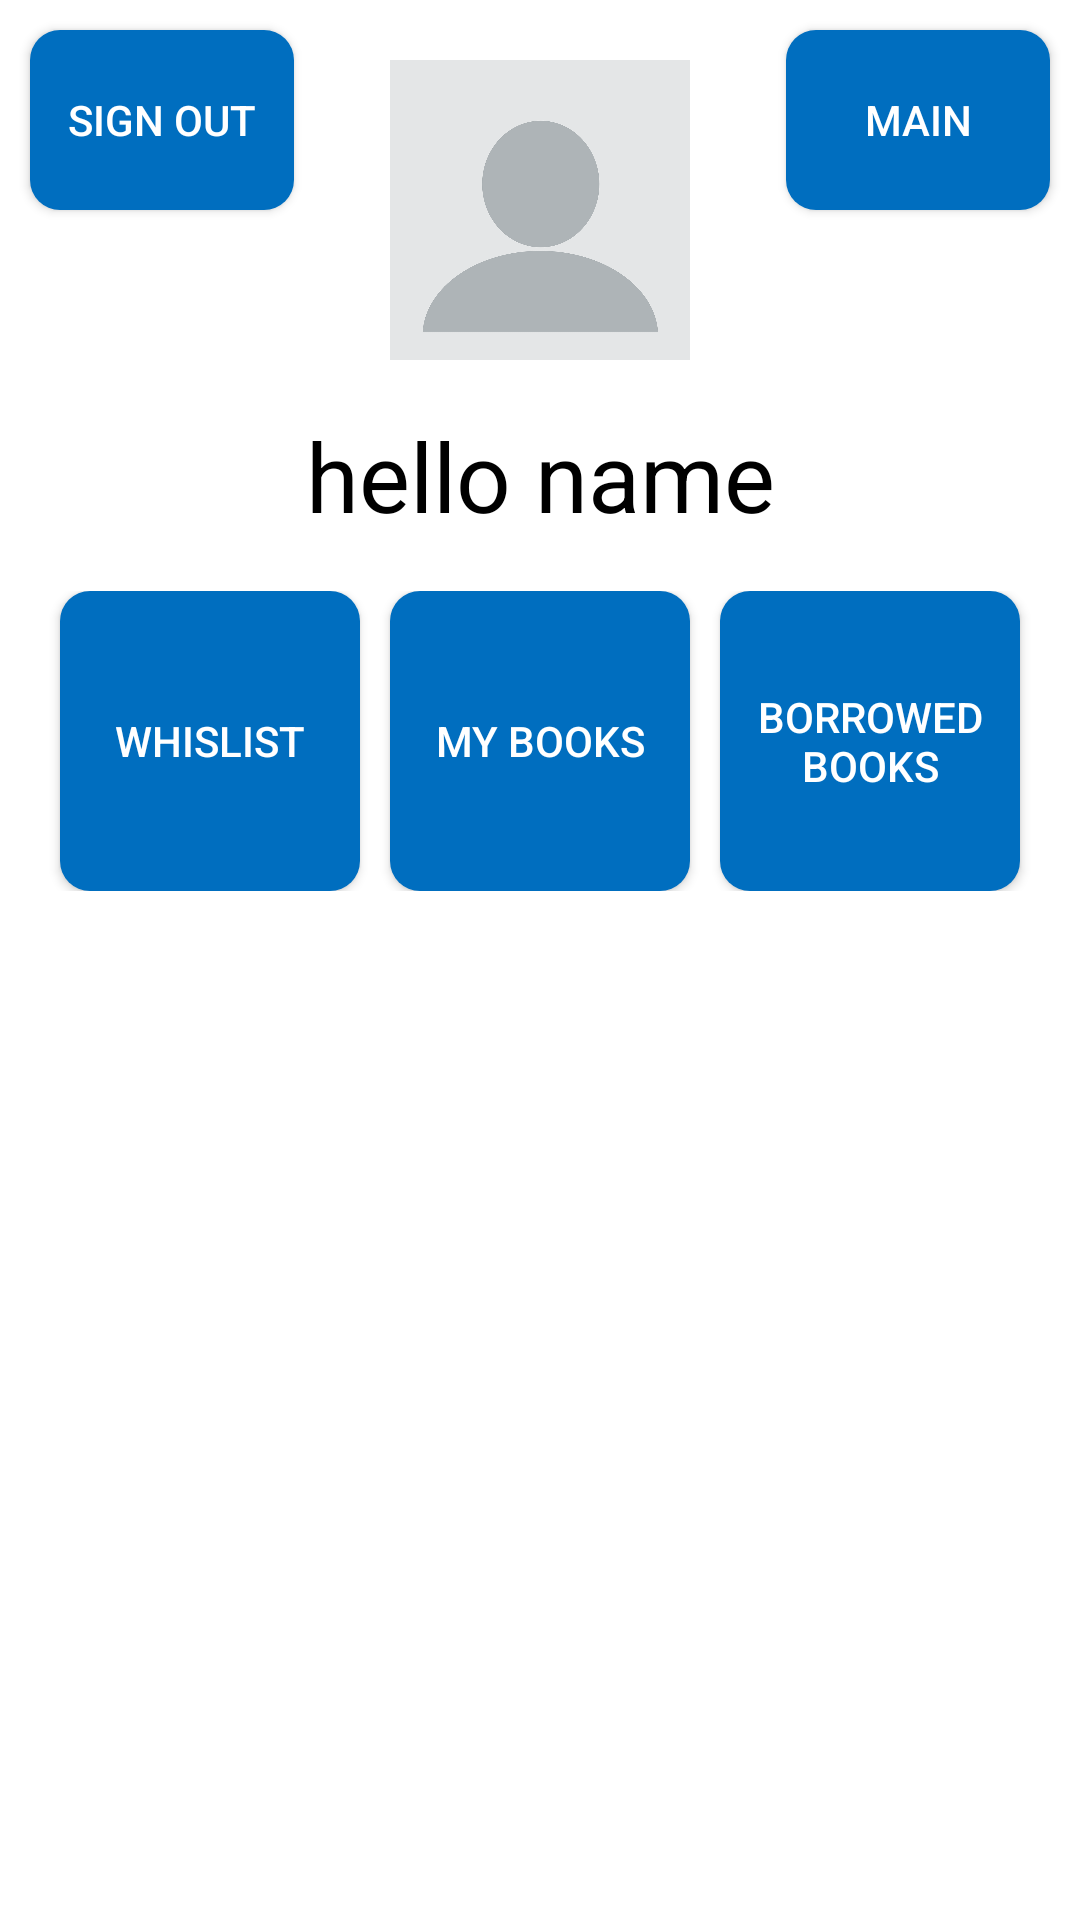

Icon bounding boxes for this 1080w x 1920h phone screenshot, format (x1, y1, x2, y2):
profile pic: (390, 60, 690, 360)
